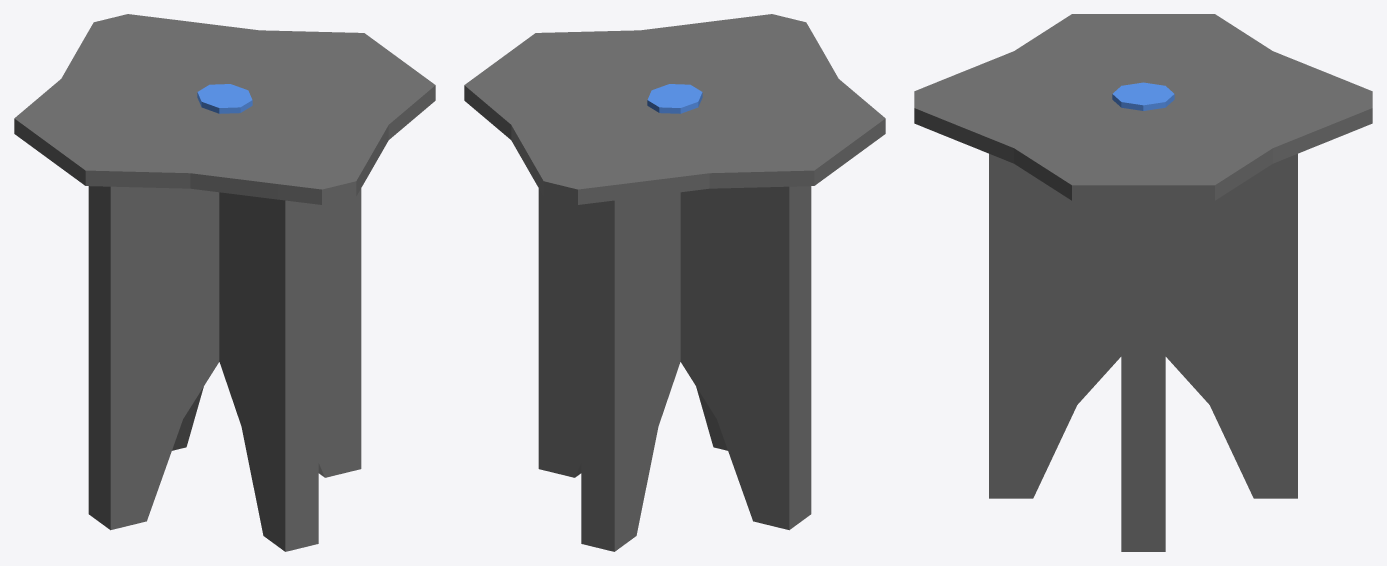
The model's file is Props_ControlRoom_SmallTable.fbx.
3 views of the same model, side by side, from view 1: azimuth 30°, elevation 25°; view 2: azimuth 150°, elevation 25°; view 3: azimuth 270°, elevation 25° (orthographic).
Parts seen in each view (by area): view 1: Cube.006; view 2: Cube.006; view 3: Cube.006.
Part boxes in pixels (box(x1,y1,x2,y2)): Cube.006: box(14, 14, 435, 551); Cube.006: box(464, 14, 885, 551); Cube.006: box(914, 14, 1372, 551).
Size of the model in its own units: 481 by 520 by 544.
